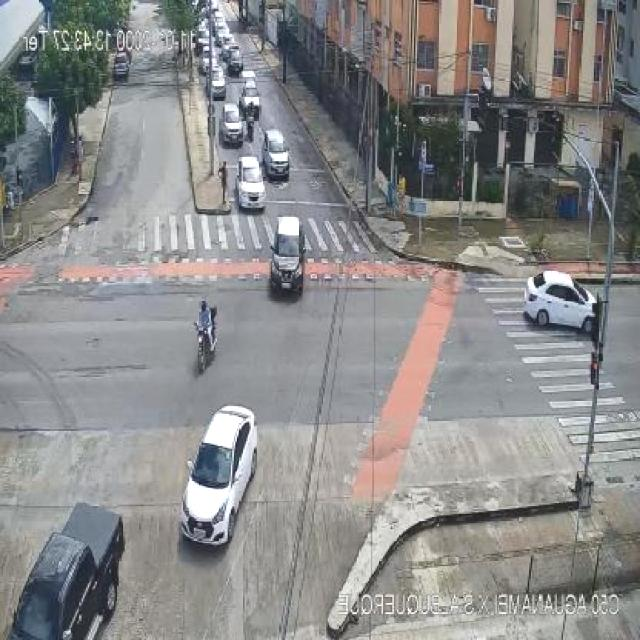Car: (180, 405, 258, 546), (524, 268, 602, 336), (268, 218, 306, 294), (236, 156, 266, 208), (262, 130, 290, 178), (220, 105, 243, 144), (238, 80, 261, 118), (198, 46, 218, 76), (207, 68, 226, 99), (226, 48, 245, 76), (113, 52, 131, 80)
Cycle: (195, 307, 218, 375), (245, 112, 256, 141)
Truck: (6, 504, 125, 638)
